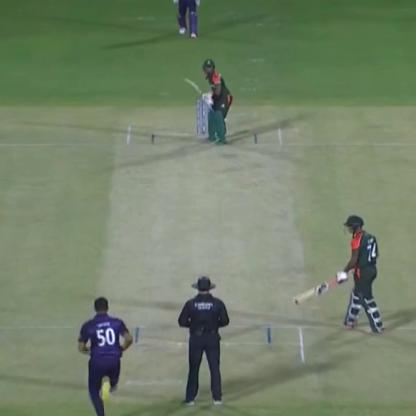bat: (293, 266, 334, 310), (177, 72, 218, 106)
pitch: (104, 123, 310, 370)
